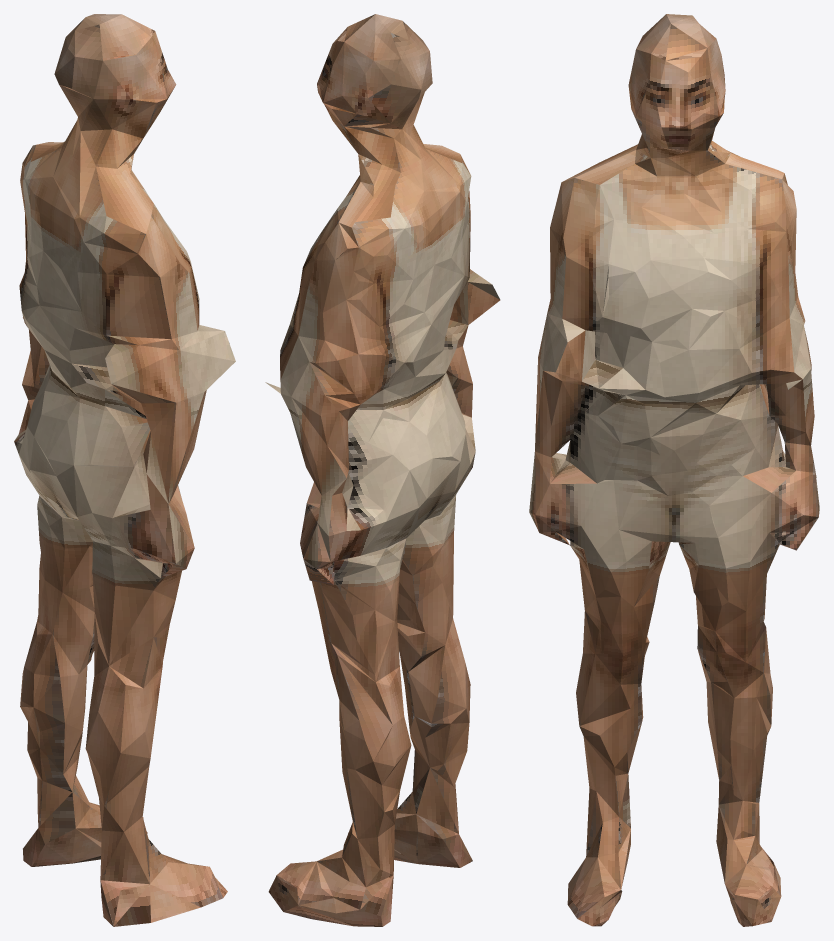
Rendered from mujer_3.glb.
The picture shows the model from 3 angles, left to right: view 1: azimuth 30°, elevation 25°; view 2: azimuth 150°, elevation 25°; view 3: azimuth 270°, elevation 25°; orthographic projection.
Visible parts, largest first — view 1: personaje.base.cuerpo_comun; view 2: personaje.base.cuerpo_comun; view 3: personaje.base.cuerpo_comun.
Boxes of the visible parts, box(x1,y1,x2,y2) form: personaje.base.cuerpo_comun: box(14, 14, 235, 926); personaje.base.cuerpo_comun: box(265, 14, 500, 926); personaje.base.cuerpo_comun: box(529, 14, 819, 926).
Size of the model in its own units: 0.2892 by 1.7 by 0.5086.
1 material, 1 textured.
